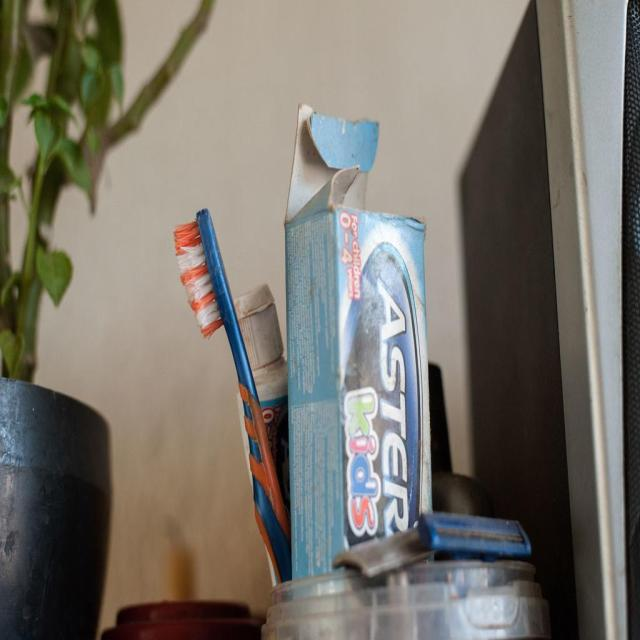Toothpaste: (283, 103, 435, 579)
